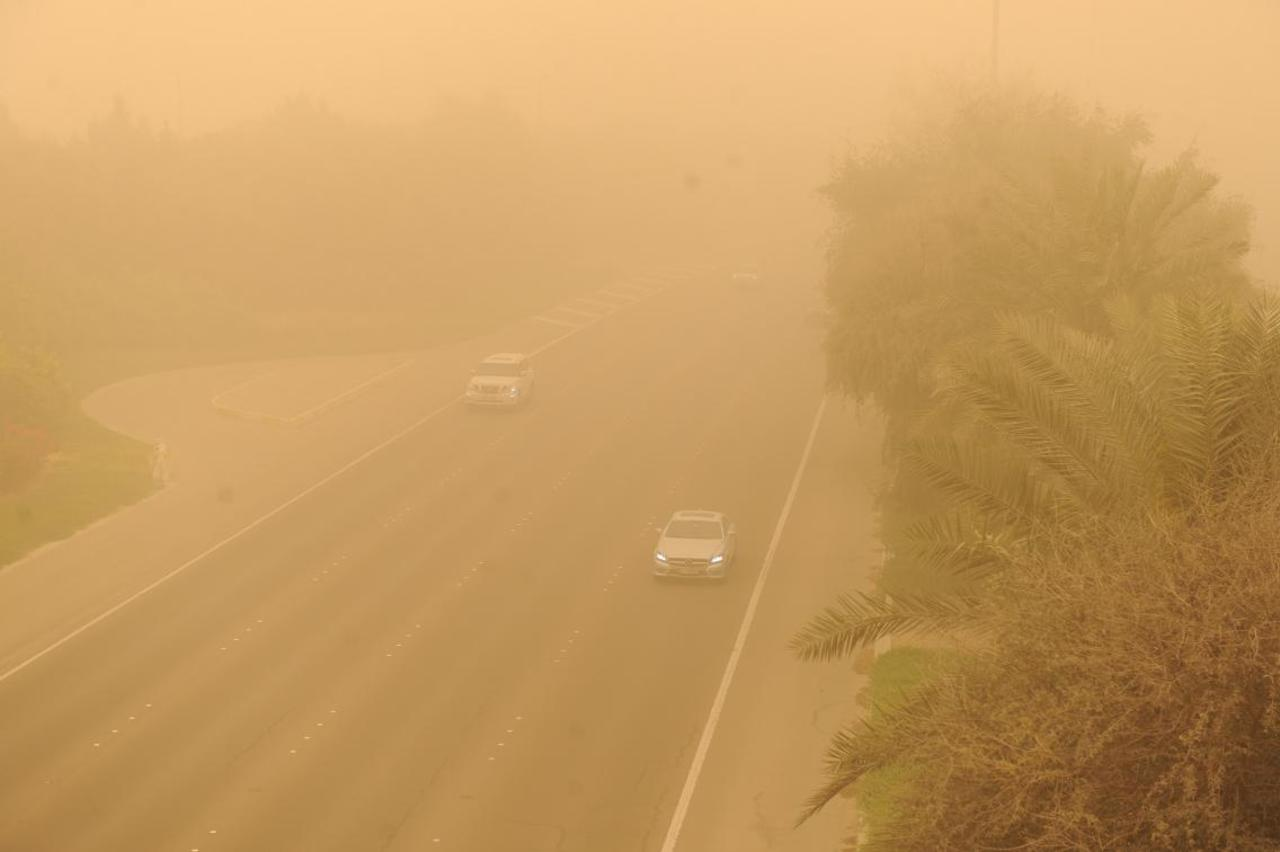car: (651, 508, 734, 580), (464, 352, 532, 408), (731, 262, 764, 288)
